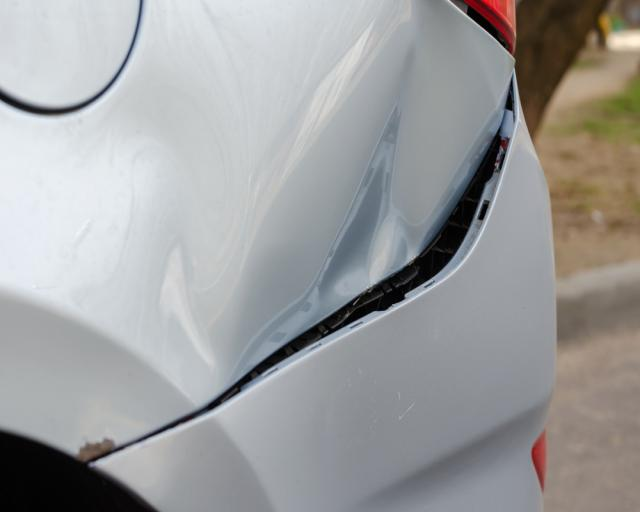dent: (77, 4, 486, 396)
